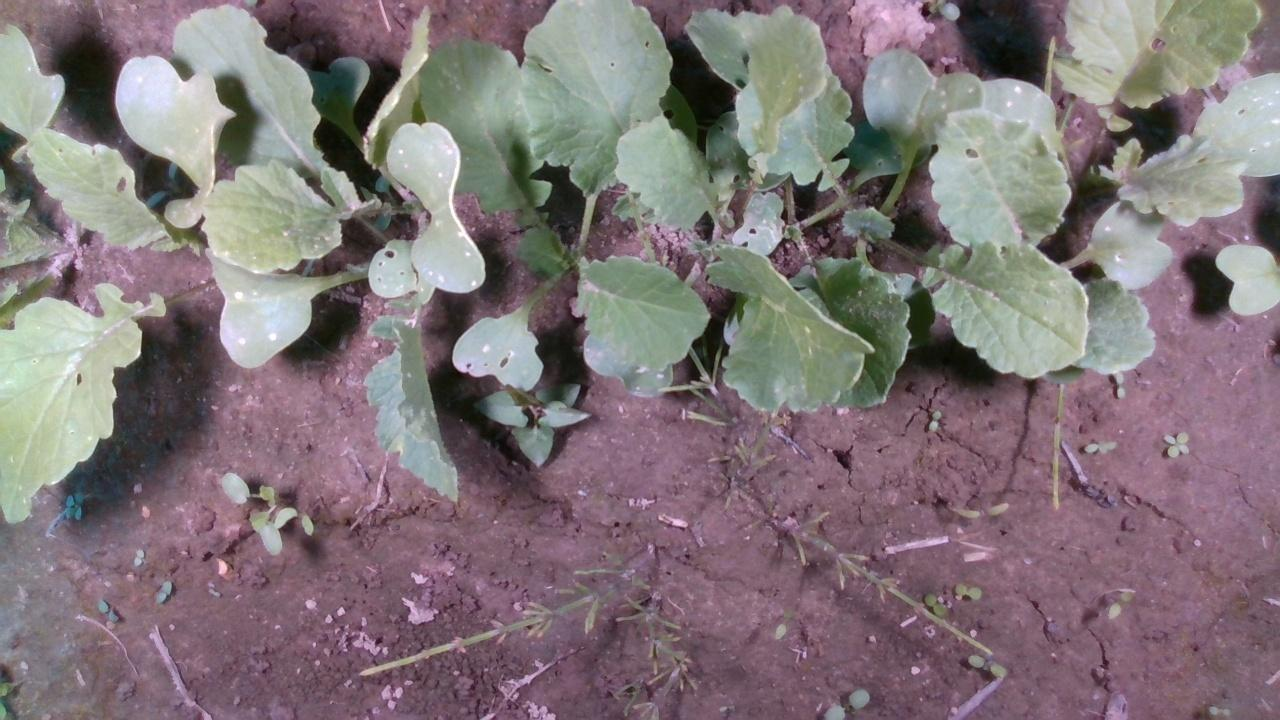weed: (965, 652, 1007, 678), (950, 500, 1010, 517), (1161, 428, 1190, 458), (1106, 589, 1132, 619), (1080, 437, 1117, 454), (95, 596, 118, 621), (154, 576, 172, 604), (953, 582, 982, 599), (926, 408, 940, 432), (131, 546, 144, 565)
